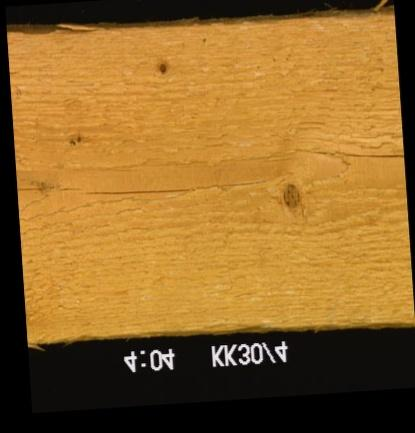small_knot: (64, 130, 84, 151), (154, 58, 170, 77)
split: (17, 175, 279, 197), (291, 139, 402, 163), (278, 180, 303, 213)
